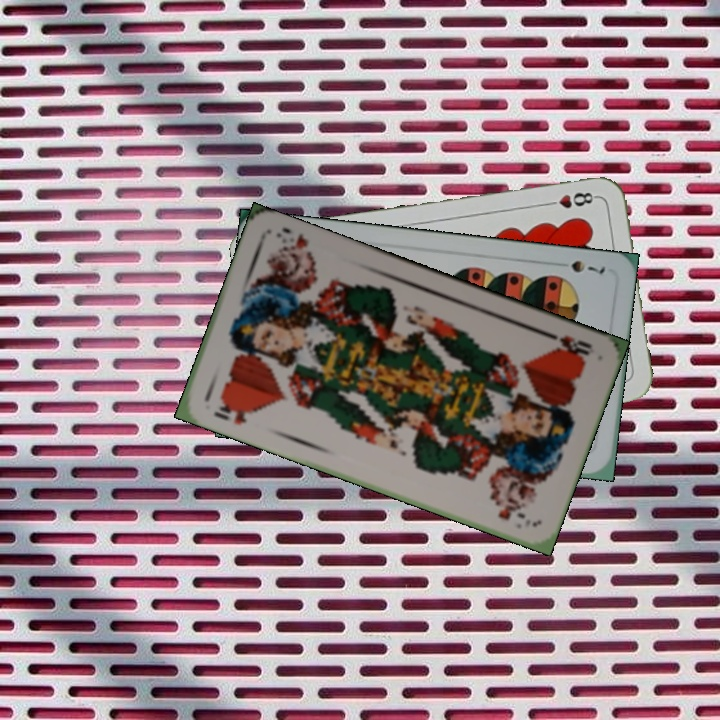H8: (541, 188, 600, 211)
HO: (541, 328, 594, 361), (209, 397, 260, 428)
S7: (567, 256, 608, 277)
